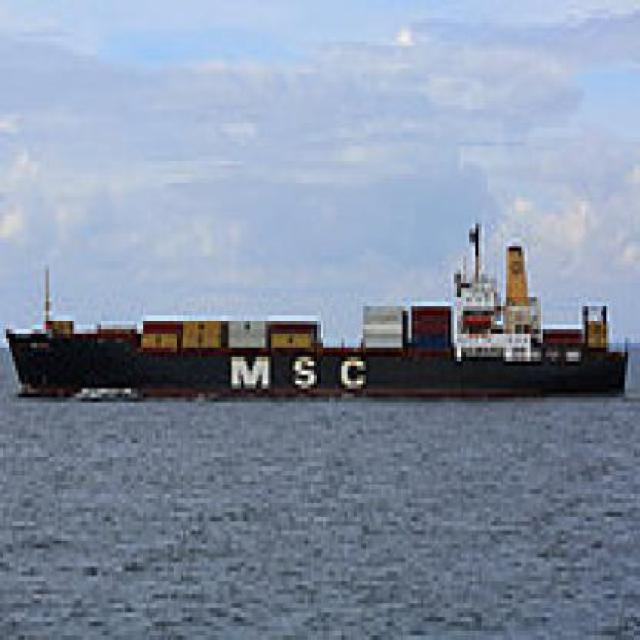container: (4, 202, 638, 426)
